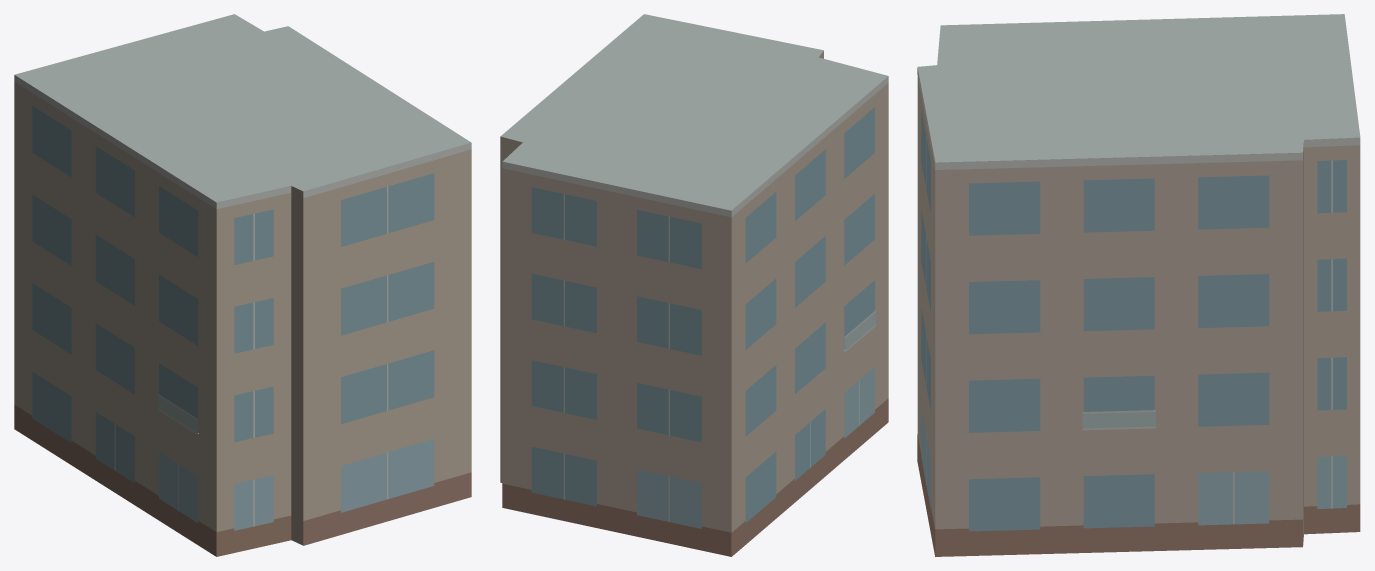
File: survey-upis-32610638.glb
3 renders of one model, left to right at view 1: azimuth 30°, elevation 25°; view 2: azimuth 150°, elevation 25°; view 3: azimuth 270°, elevation 25°, orthographic. The views are drawn at different scales.
Parts seen in each view (by area): view 1: survey-upis-32610638.tmp; view 2: survey-upis-32610638.tmp; view 3: survey-upis-32610638.tmp.
Part boxes in pixels (x1,y1,x2,y2): survey-upis-32610638.tmp: (14, 14, 471, 556); survey-upis-32610638.tmp: (500, 14, 888, 556); survey-upis-32610638.tmp: (917, 14, 1360, 556).
Bounding box in the file's own units: 10.27 × 12.7 × 12.94.
